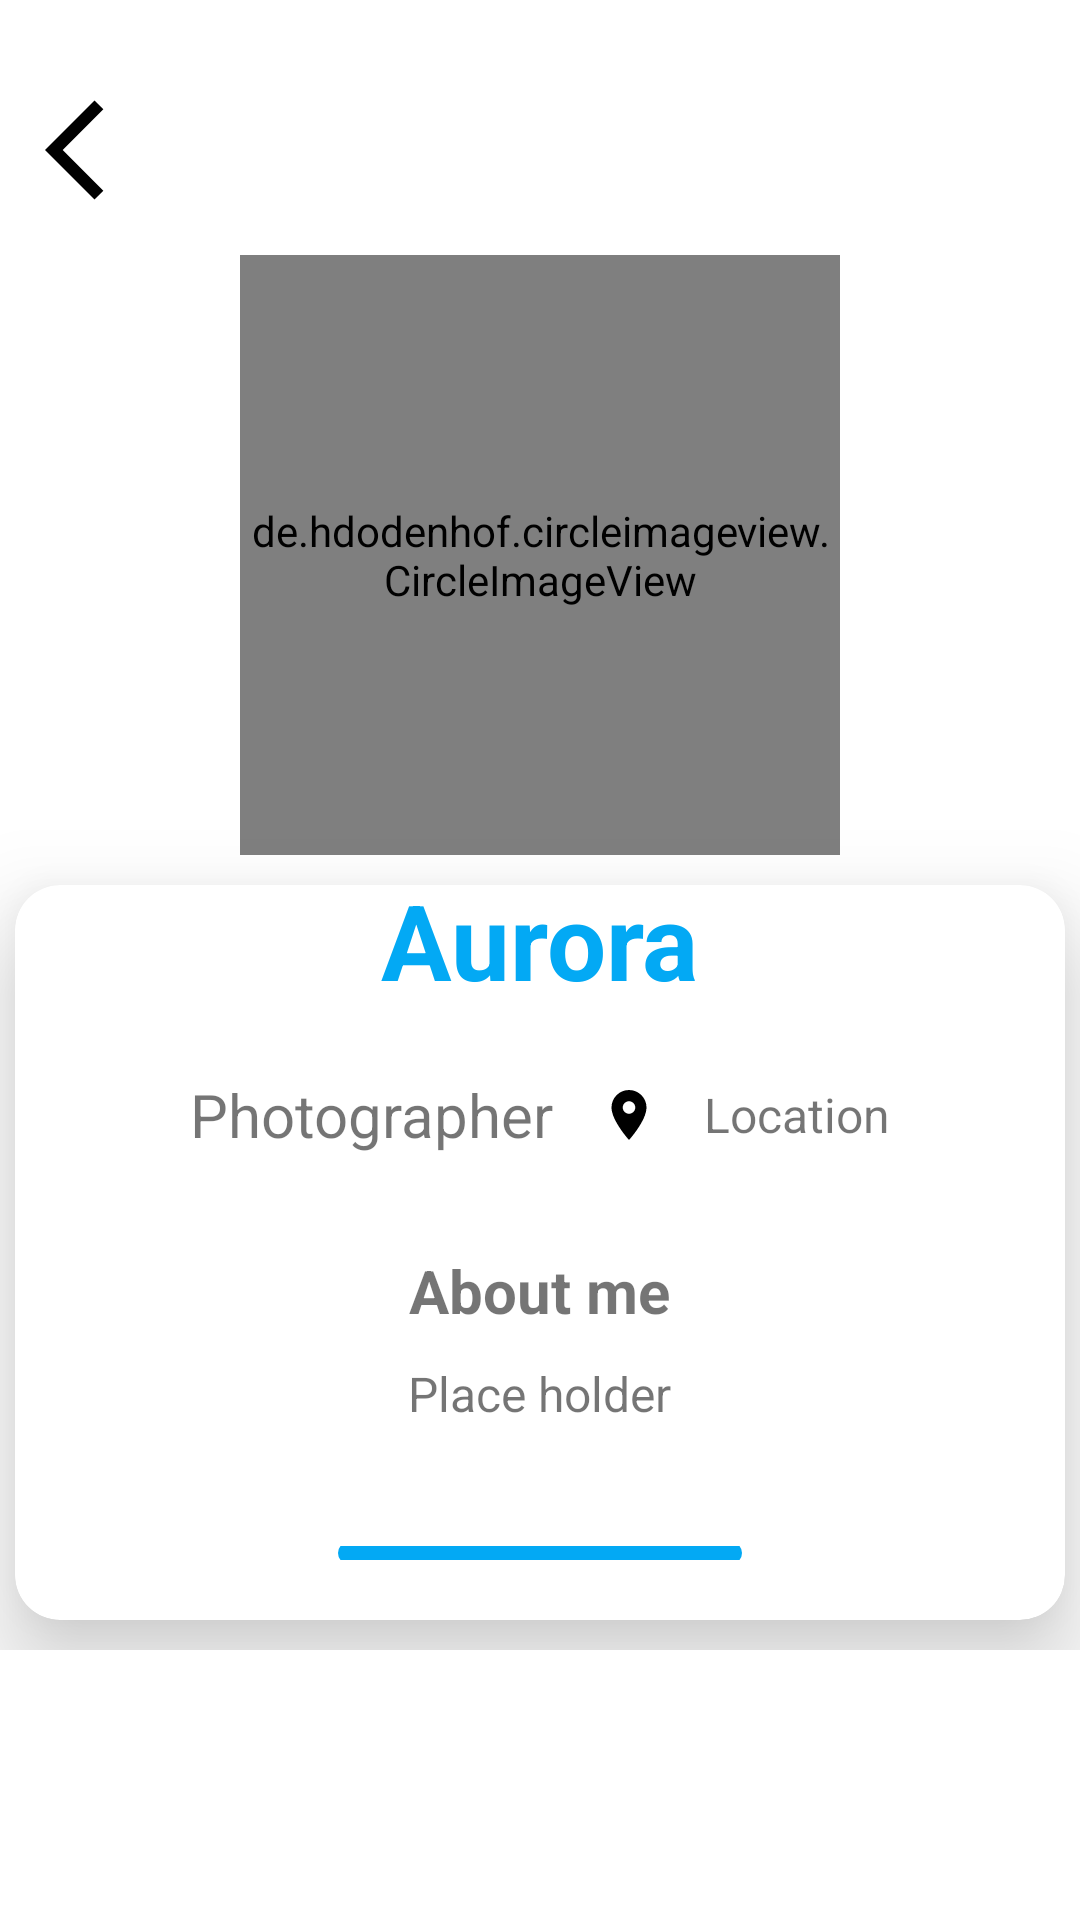

Named icons in this screenshot (1080 x 1920) and their centers, (x,y):
back: (74,150)
